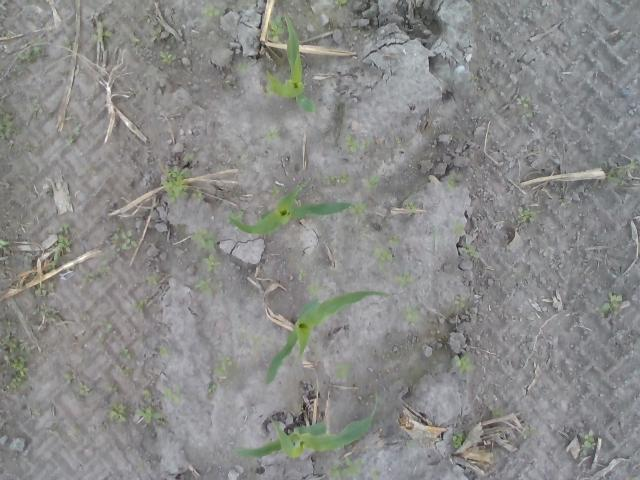Maize: (264, 290, 390, 384), (228, 394, 379, 462), (228, 186, 352, 236), (272, 10, 316, 114)
Weeds: (0, 317, 30, 394), (160, 162, 192, 208), (368, 234, 401, 272), (606, 158, 640, 186), (328, 455, 365, 480), (16, 44, 46, 68), (111, 226, 138, 252), (598, 290, 624, 316), (190, 226, 216, 250), (322, 168, 352, 188), (452, 352, 476, 375), (339, 134, 368, 153), (0, 102, 13, 143), (57, 223, 73, 256), (134, 404, 162, 422), (267, 14, 285, 41), (194, 273, 214, 296), (264, 70, 281, 96), (109, 402, 129, 424), (90, 29, 112, 48), (212, 356, 232, 376), (164, 382, 186, 400), (334, 361, 354, 380), (207, 248, 221, 274), (394, 271, 414, 289), (515, 206, 536, 223), (305, 281, 326, 297), (404, 303, 422, 321), (447, 294, 466, 311), (455, 54, 472, 73), (262, 128, 282, 144), (68, 122, 82, 144), (578, 430, 595, 448), (160, 48, 177, 66), (200, 2, 220, 17), (450, 430, 464, 449), (462, 243, 480, 257), (32, 306, 52, 318), (143, 272, 160, 286), (352, 201, 368, 215), (516, 94, 530, 110), (366, 174, 380, 189), (404, 200, 418, 214), (34, 283, 49, 296), (31, 96, 43, 112), (48, 254, 60, 270), (78, 381, 90, 397), (130, 299, 144, 312), (446, 175, 457, 190), (449, 223, 465, 233), (104, 319, 114, 335), (119, 344, 129, 360), (233, 63, 248, 73), (192, 190, 204, 202), (166, 34, 176, 48), (82, 270, 96, 280), (335, 0, 352, 8), (370, 469, 382, 480), (270, 185, 282, 196), (105, 382, 118, 392), (63, 370, 73, 382), (466, 74, 480, 82), (14, 125, 24, 136), (130, 37, 140, 48), (494, 408, 506, 417), (0, 237, 9, 248), (248, 334, 259, 343), (160, 344, 168, 356), (144, 388, 152, 399), (297, 269, 305, 280), (402, 440, 411, 449), (294, 404, 303, 412), (208, 384, 216, 393)
